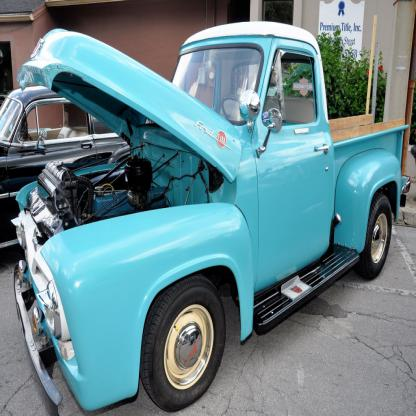Car: (0, 85, 130, 248)
Truck: (10, 21, 411, 415)
